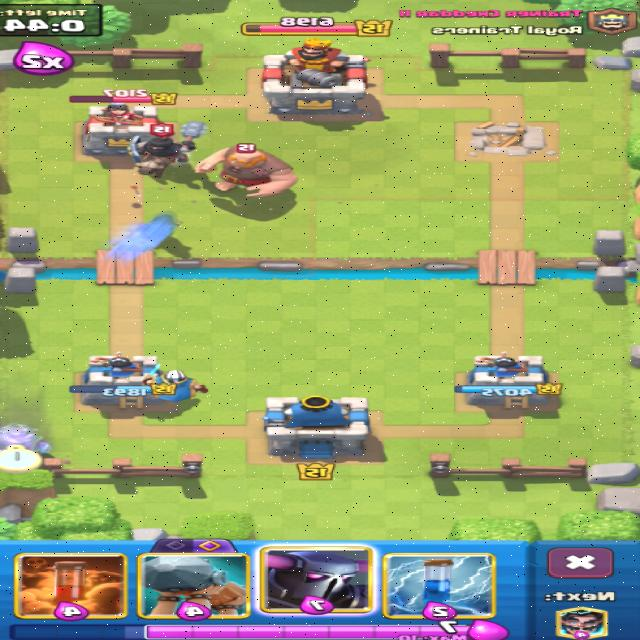Enemy-DarkPrince-Shield-Charge: (130, 121, 207, 177)
Enemy-Giant: (202, 147, 295, 194)
Enemy-KingTower-Activated: (263, 38, 367, 114)
Enemy-PrincessTower: (83, 102, 163, 156)
Player-KingTower: (262, 394, 370, 458)
Player-MagicArcher: (144, 370, 207, 401)
Player-PrincessTower: (72, 352, 195, 408), (457, 352, 562, 408)
Player-RoyalGhost-Evo-Invisible: (0, 424, 49, 453)
